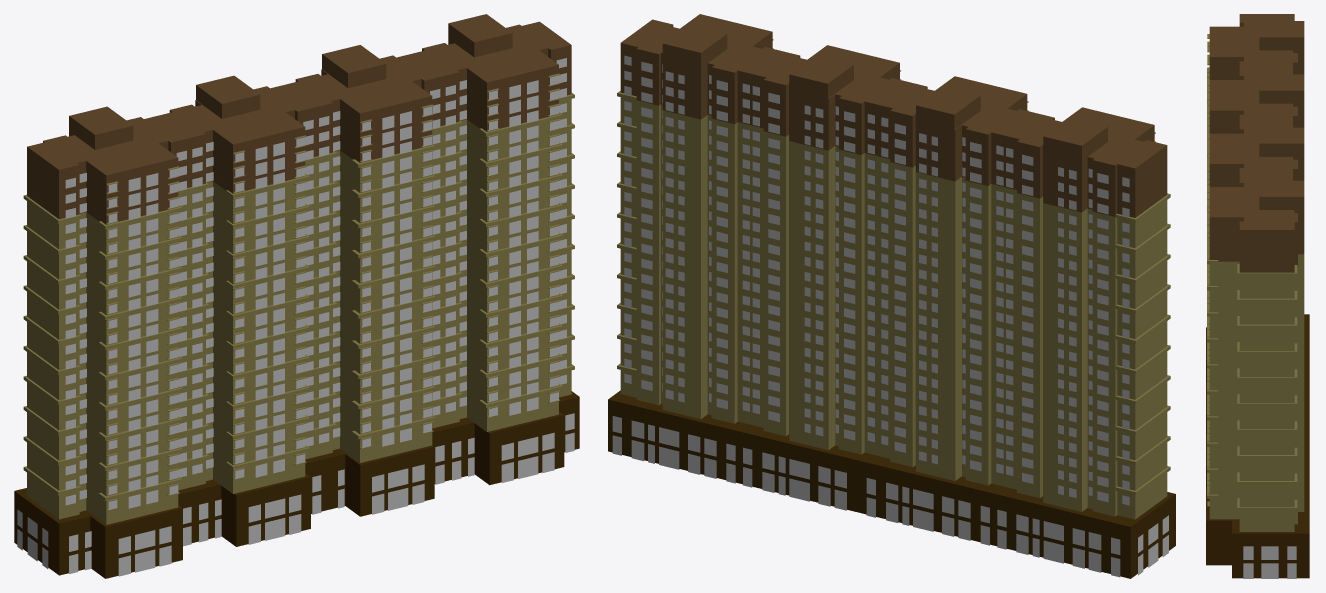
Rendered from YQ_Lou02_01.fbx.
3 renders of one model, left to right at view 1: azimuth 30°, elevation 25°; view 2: azimuth 150°, elevation 25°; view 3: azimuth 270°, elevation 25°, orthographic. The views are drawn at different scales.
Visible parts, largest first — view 1: YQ_Lou02; view 2: YQ_Lou02; view 3: YQ_Lou02.
Boxes of the visible parts, x1,y1,x2,y2 form: YQ_Lou02: [14, 14, 579, 578]; YQ_Lou02: [608, 14, 1175, 578]; YQ_Lou02: [1206, 14, 1309, 578].
Bounding box in the file's own units: 9290 × 7052 × 1903.
